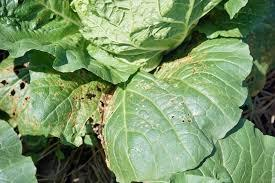Bok-Choy-Diseased: (96, 52, 247, 172), (0, 55, 107, 141)
